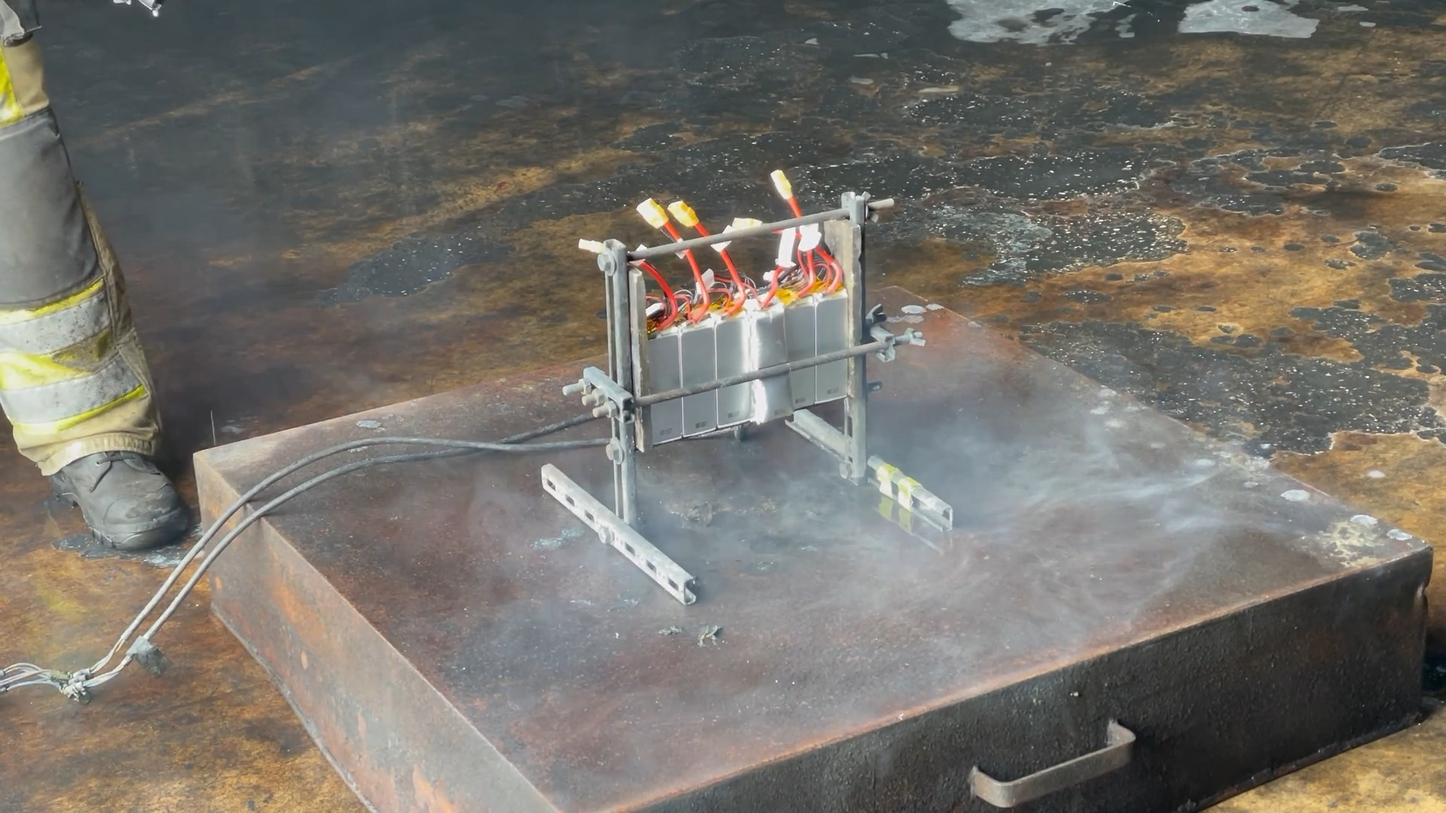smoke: (87, 0, 1316, 701)
